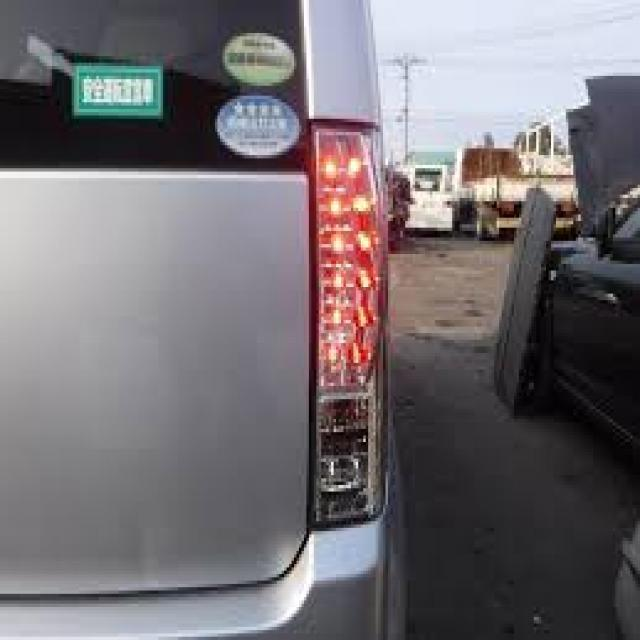damaged-tail-light: (312, 128, 380, 522)
